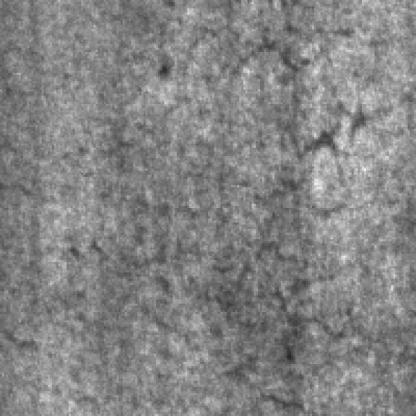crazing: (77, 187, 362, 364), (220, 16, 376, 171)
